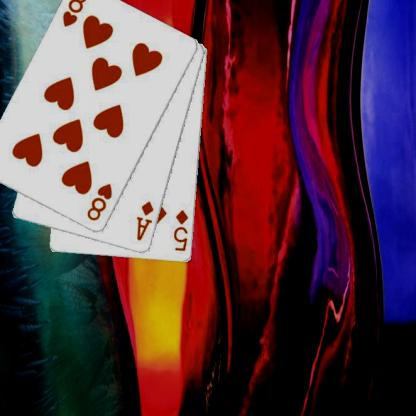5D: (171, 208, 190, 252)
8H: (84, 181, 114, 222), (60, 0, 89, 29)
AD: (134, 199, 155, 242)
